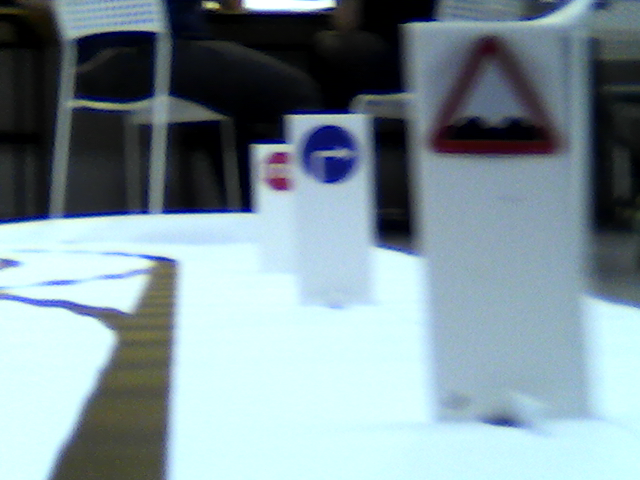Nerov: (429, 36, 556, 154)
Right: (298, 124, 363, 181)
Stop: (262, 150, 292, 189)
